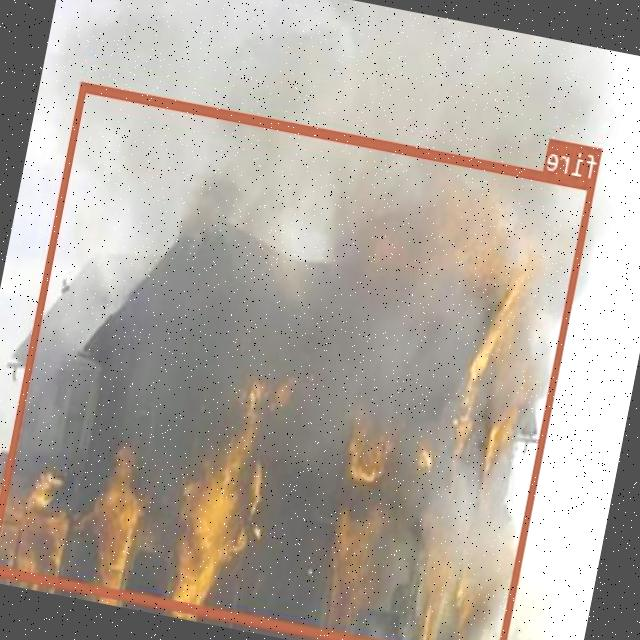fire: (0, 81, 597, 640)
